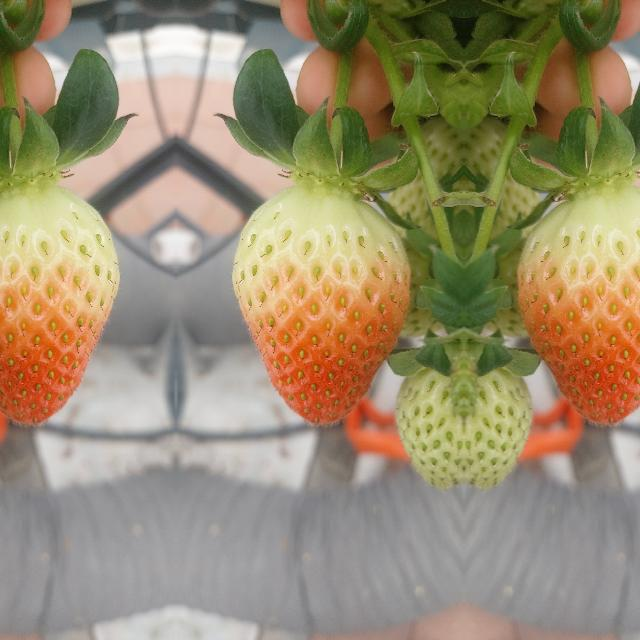Health_25: (396, 329, 462, 491), (464, 329, 530, 491)
Health_75: (231, 186, 409, 424), (517, 186, 640, 424), (0, 186, 119, 424)
